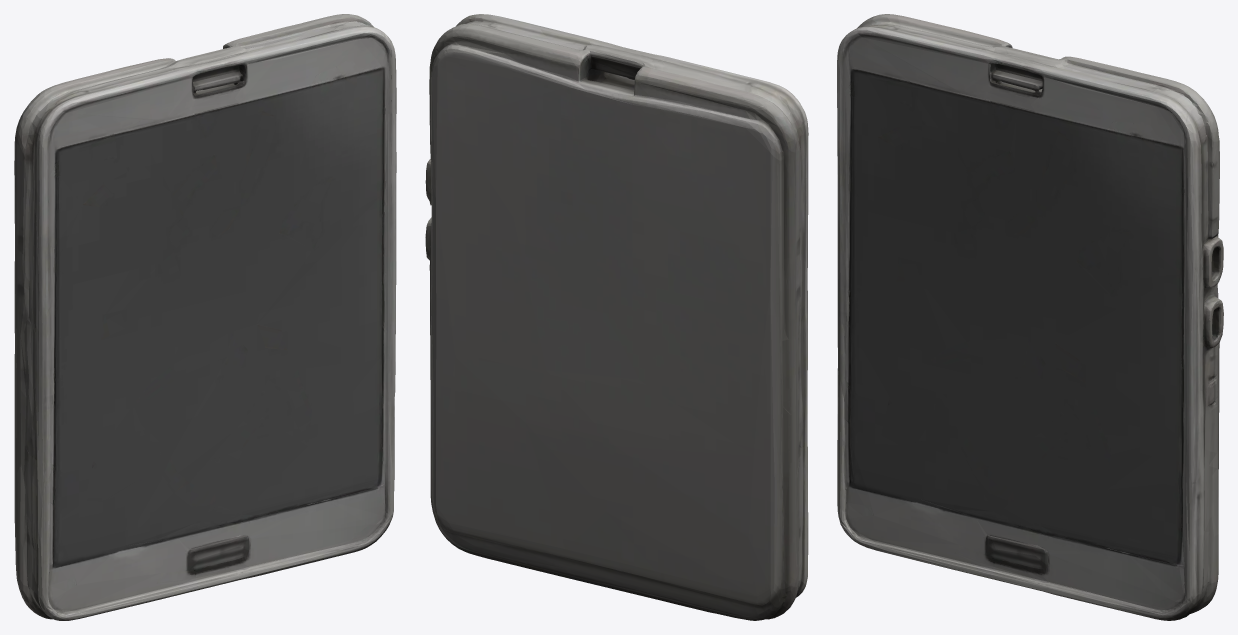
The model's file is smartphone-modern.glb.
The picture shows the model from 3 angles, left to right: view 1: azimuth 30°, elevation 25°; view 2: azimuth 150°, elevation 25°; view 3: azimuth 330°, elevation 25°; orthographic projection.
Visible parts, largest first — view 1: world; view 2: world; view 3: world.
Part boxes in pixels (x1,y1,x2,y2): world: (14, 14, 396, 620); world: (425, 14, 808, 620); world: (837, 14, 1223, 620).
Size of the model in its own units: 0.7263 by 0.9964 by 0.1023.
1 material, 1 textured.
